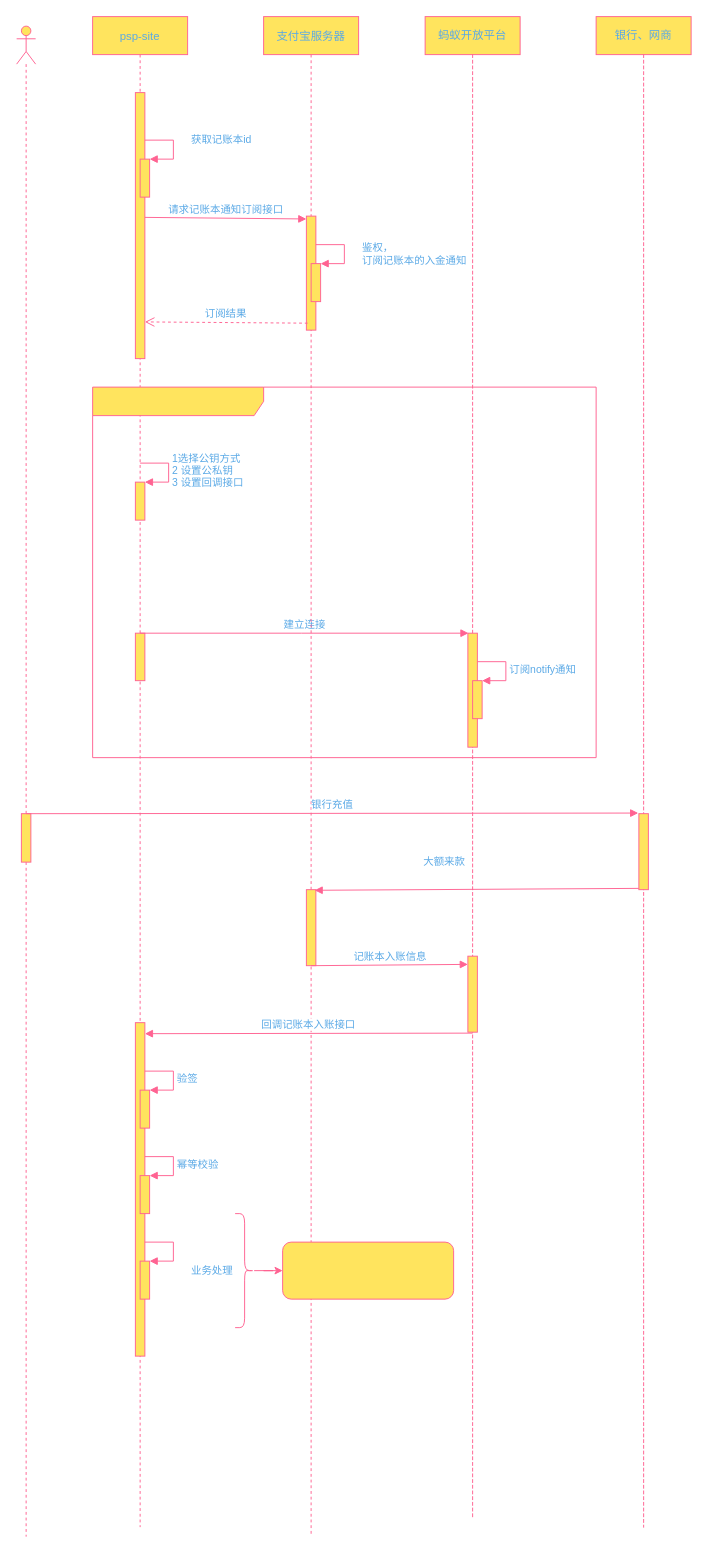
Some shapes in this 717 by 1553 pixel diagram are drawn without their labels. The box of each missing label's shape, as (x1, y1, x2, y2) in pixels:
1 由记账本信息匹配服务商和客户 2 更新服务商和客户金额: (282, 1241, 454, 1299)
设置From蚂蚁平台消息: (92, 386, 596, 758)
